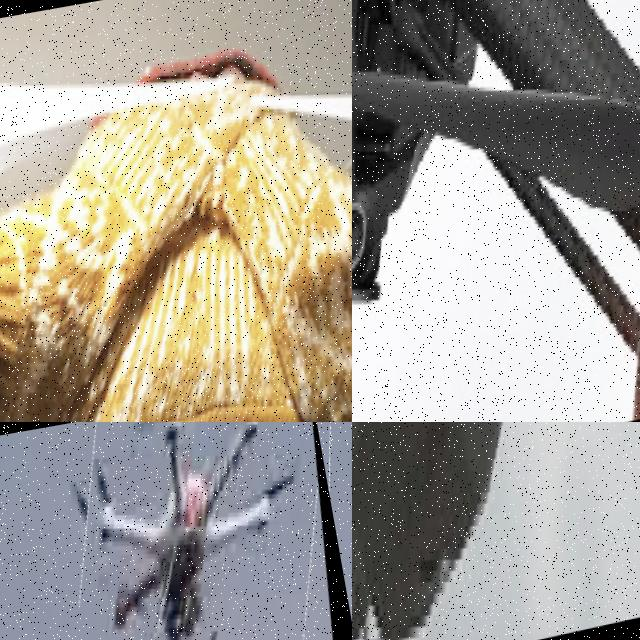0: (47, 422, 352, 640)
drone: (0, 0, 352, 422), (352, 0, 640, 422), (352, 422, 640, 640)
